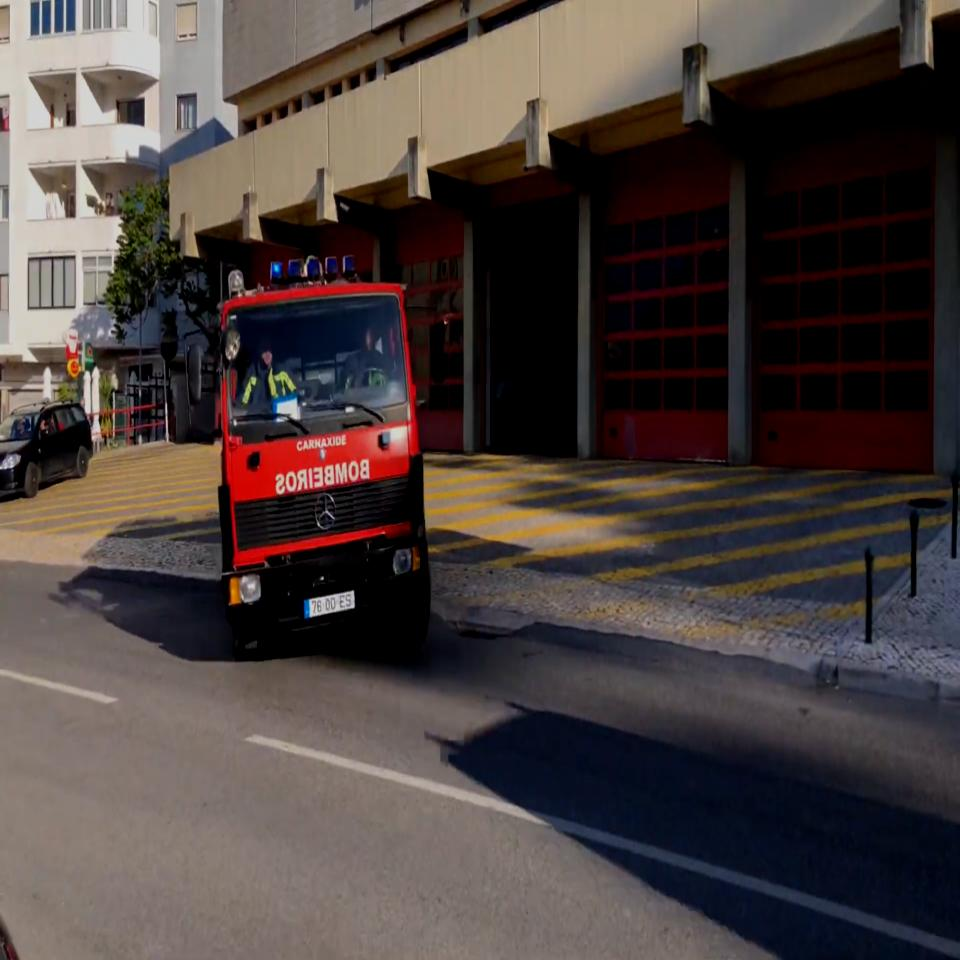bombeiro: (186, 248, 452, 664)
